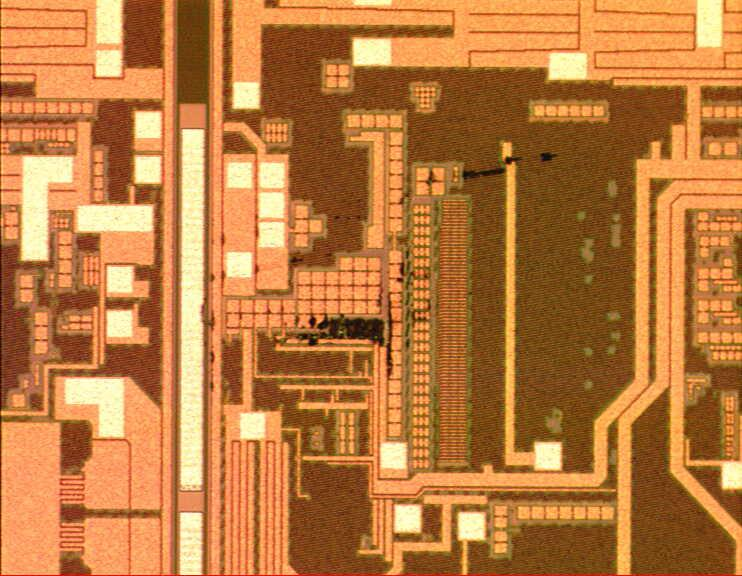SCRATCH: (282, 146, 562, 380)
